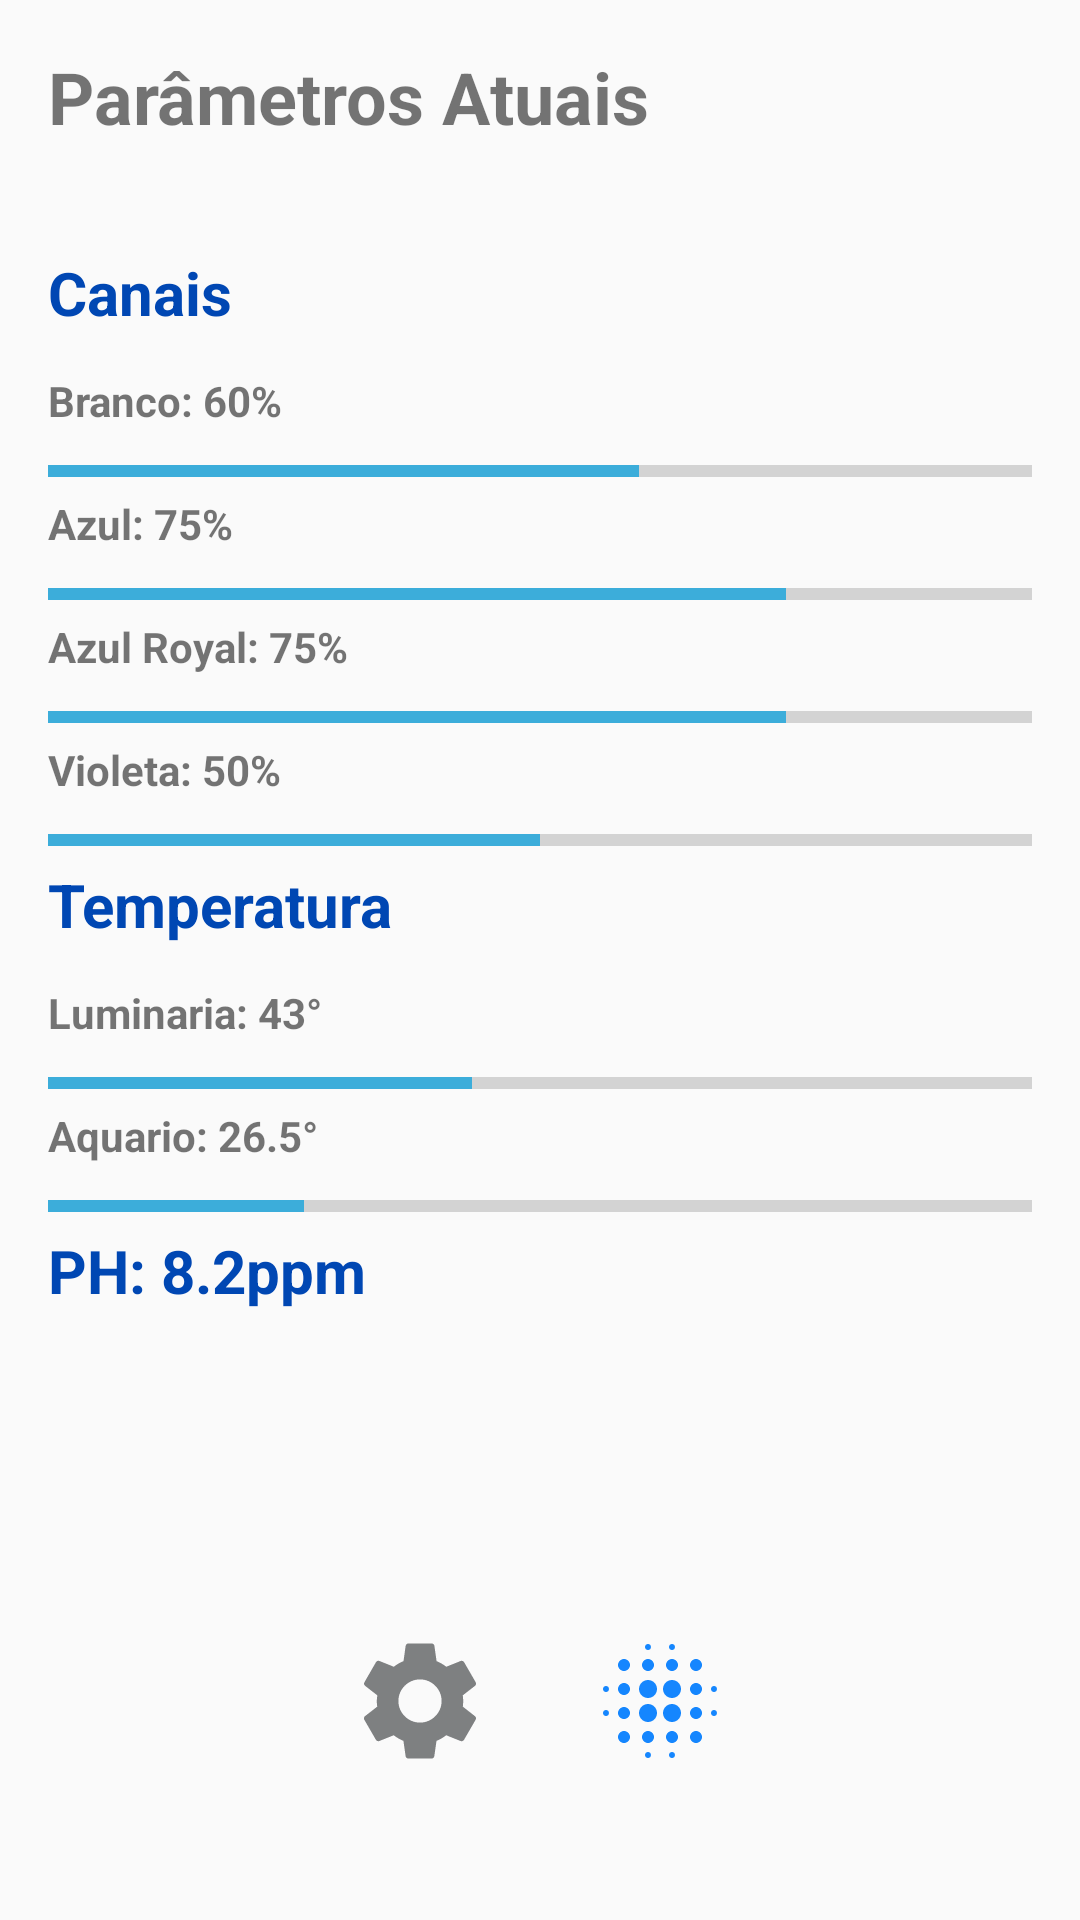

Screen size 1080x1920. Icon name, then its box in pixels as (x1, y1, x2, y2):
settings: (364, 1643, 476, 1759)
